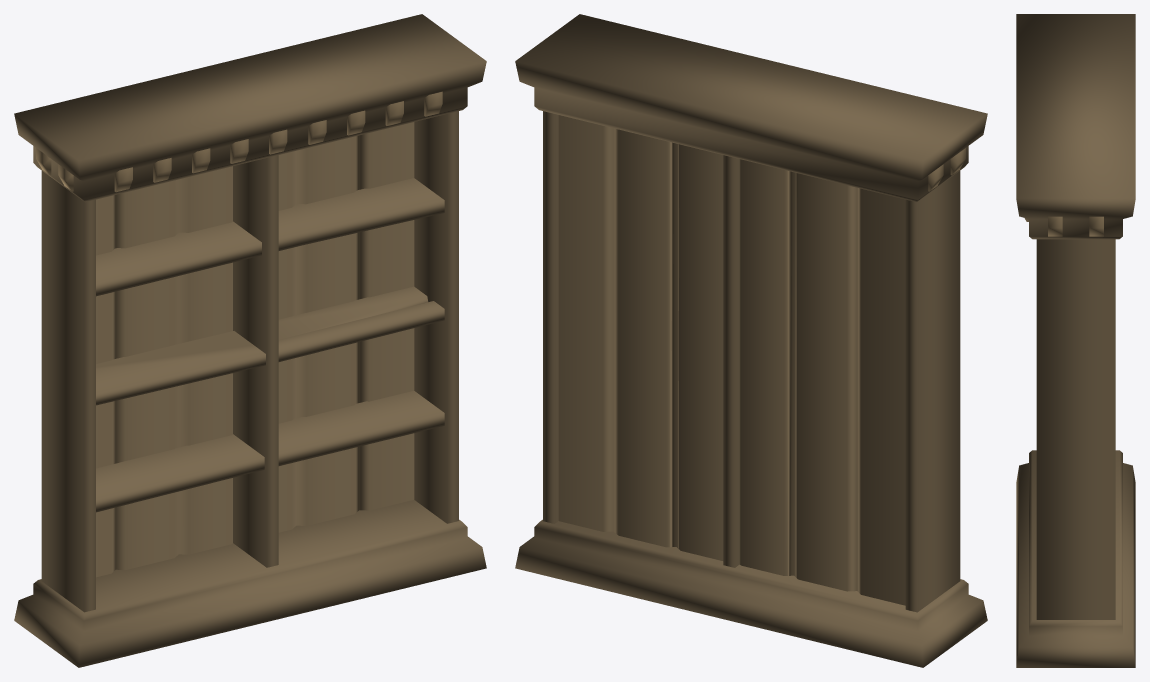
The model's file is rpgpp_ag_shelf_wood_06b.fbx.
The picture shows the model from 3 angles, left to right: view 1: azimuth 30°, elevation 25°; view 2: azimuth 150°, elevation 25°; view 3: azimuth 270°, elevation 25°; orthographic projection. The views are drawn at different scales.
Visible parts, largest first — view 1: rpgpp_ag_shelf_wood_06b; view 2: rpgpp_ag_shelf_wood_06b; view 3: rpgpp_ag_shelf_wood_06b.
Part boxes in pixels (x1=…): rpgpp_ag_shelf_wood_06b: x1=14, y1=14, x2=486, y2=667; rpgpp_ag_shelf_wood_06b: x1=515, y1=14, x2=987, y2=667; rpgpp_ag_shelf_wood_06b: x1=1016, y1=14, x2=1135, y2=667.
Bounding box in the file's own units: 1.58 × 1.88 × 0.4341.
